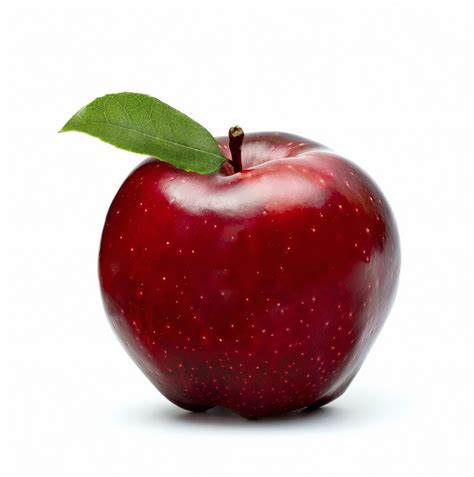apple: (93, 129, 406, 421)
